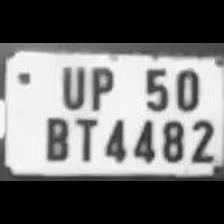0: (170, 64, 202, 110)
2: (185, 114, 217, 166)
4: (127, 114, 156, 164), (100, 114, 128, 162)
5: (139, 64, 171, 110)
8: (157, 114, 185, 164)
B: (40, 111, 72, 160)
P: (84, 62, 116, 112)
T: (70, 113, 100, 161)
U: (55, 60, 87, 108)
